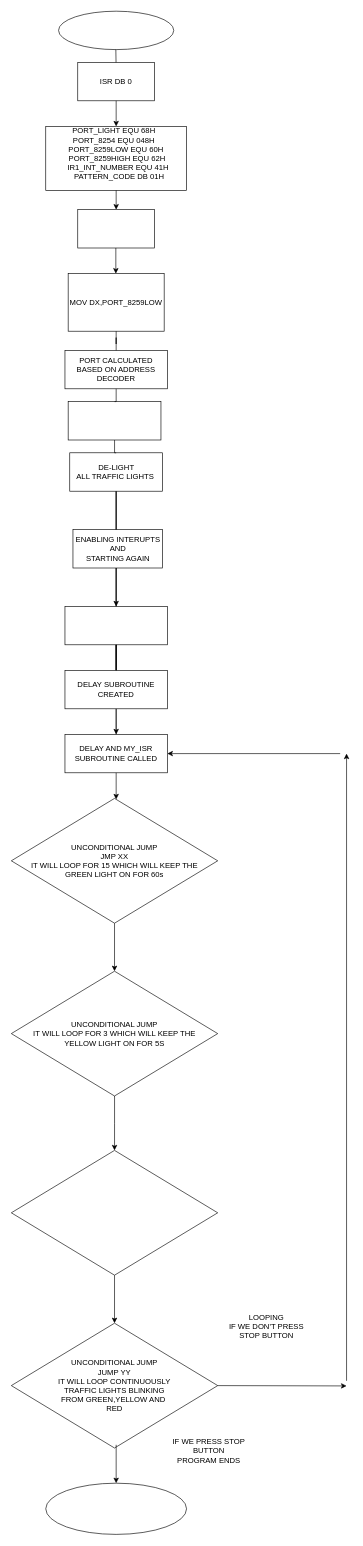
Some shapes in this 363 by 1546 pixel diagram are drawn without their labels. Each missing label, with the centre of its shape:
"END" goes at (116,1508).
"Entering INSIDE ISR" goes at (116,228).
"INITIALIZING 8259 ICW1,2,4, OCW1" goes at (114,420).
"MY ISR SUBROUTINE CREATED" goes at (115,625).
"START" goes at (116,30).
"UNCONDITIONAL JUMP IT WILL LOOP FOR 12 WHICH WILL KEEP THE RED LIGHT ON FOR 45S" goes at (114,1212).
